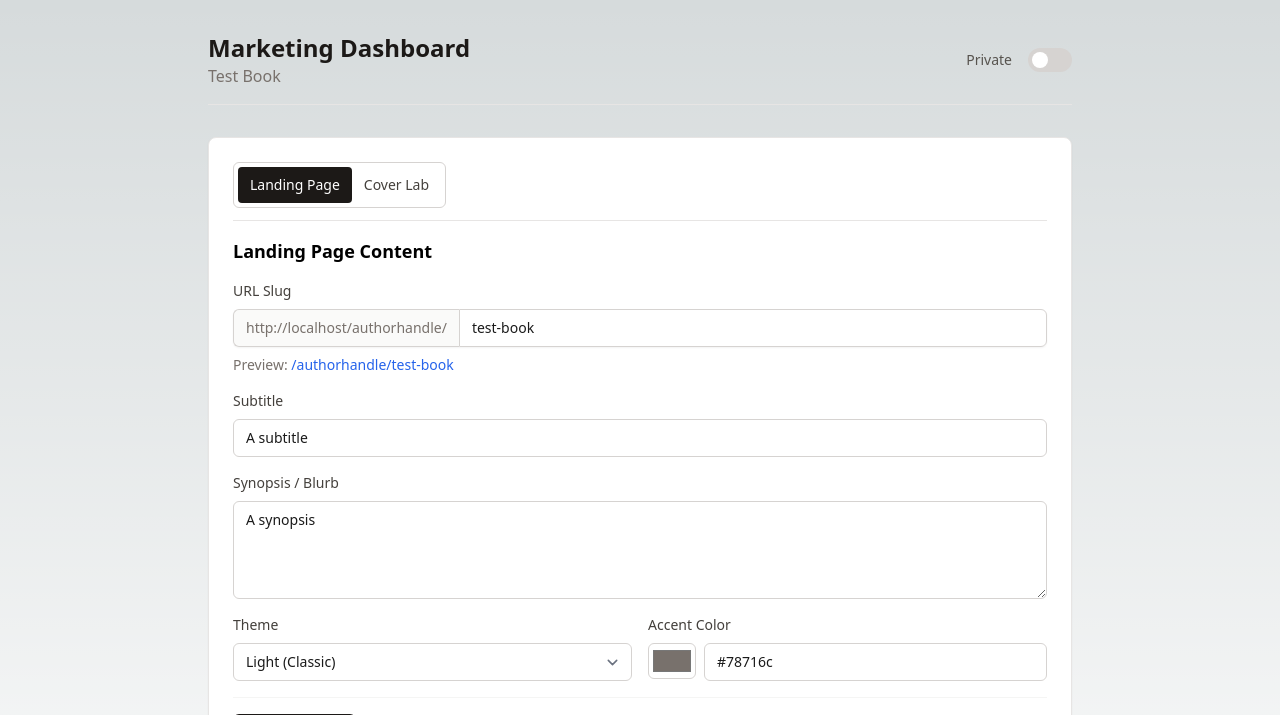
Scenario: MarketingDashboard › switches to Cover Lab tab
The image size is (1280, 715).
Click the button "Cover Lab" at x=396, y=185, box [352, 167, 441, 203]
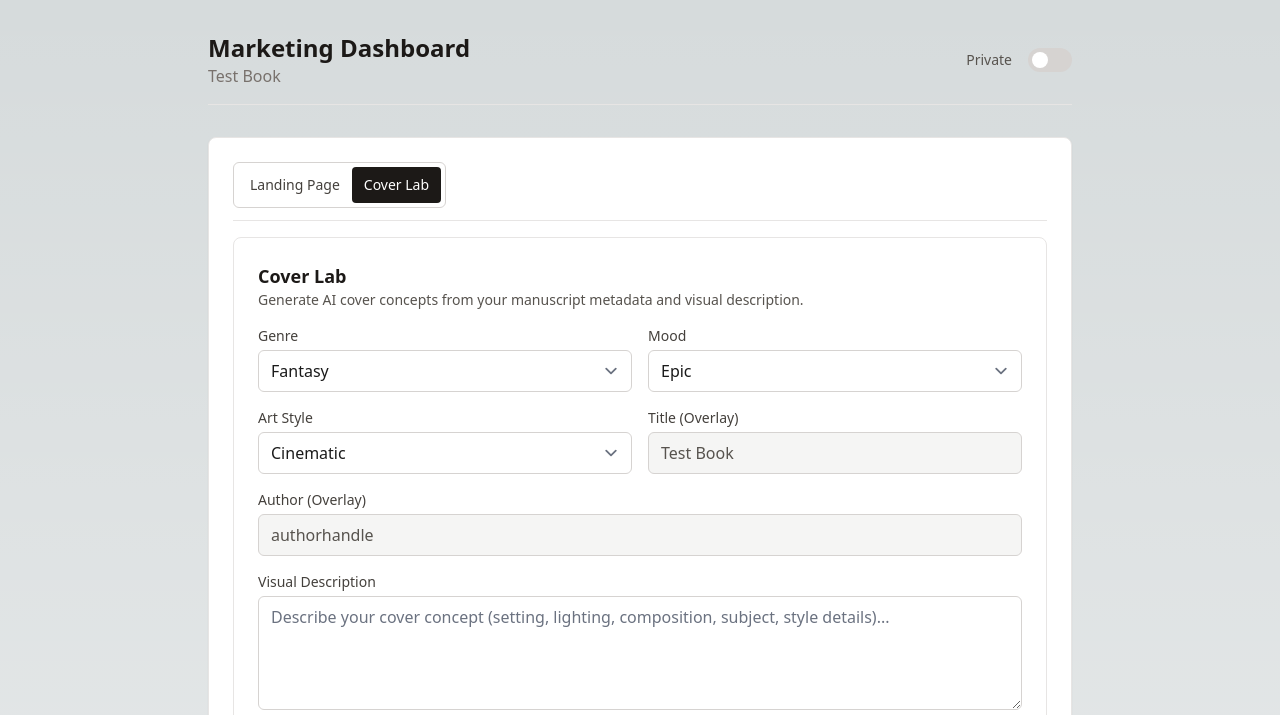
Check: the text "Generate AI cover concepts from your manuscript metadata and visual description." is shown, box [258, 290, 804, 309]
